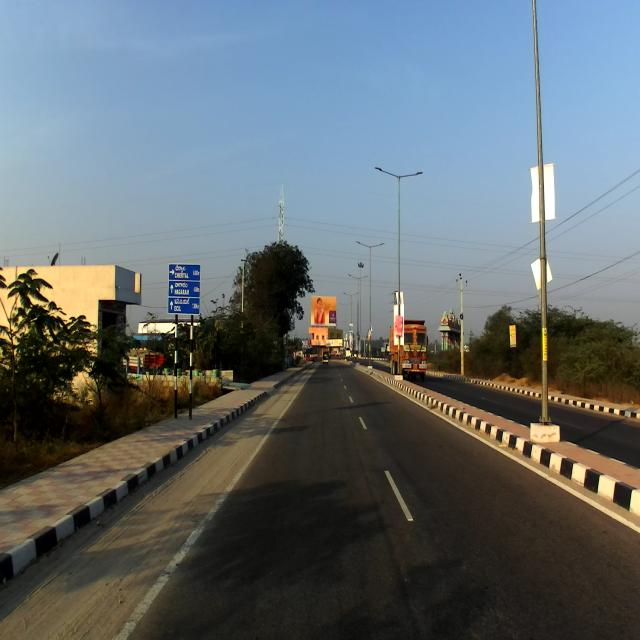sign board ahead at: (164, 258, 205, 338)
